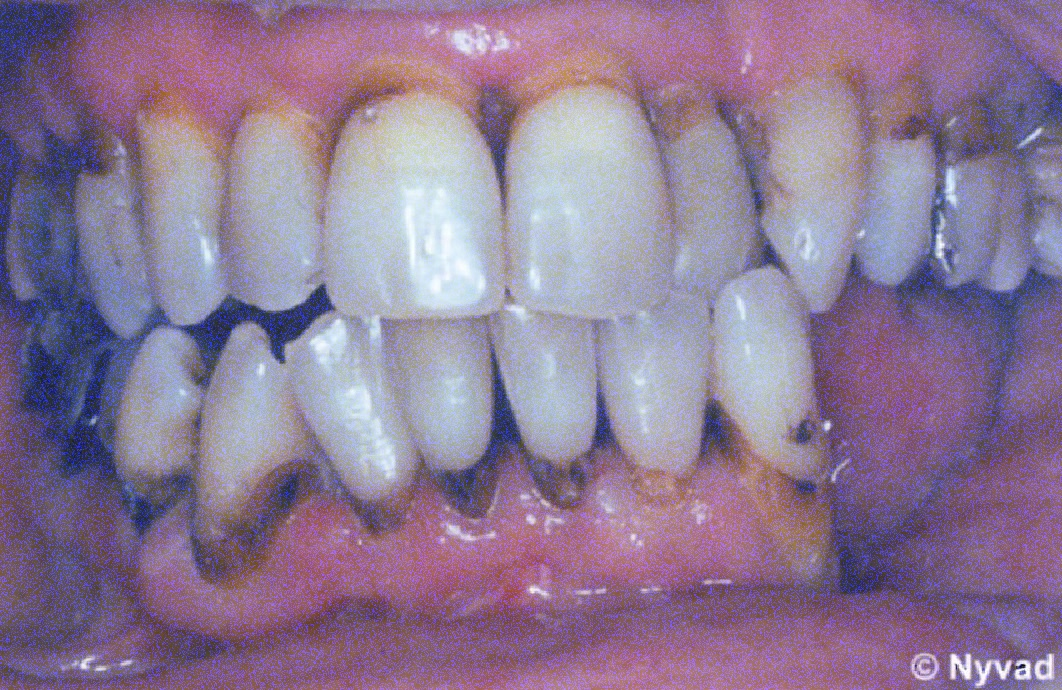karies: (200, 461, 325, 585), (51, 345, 140, 478), (726, 93, 800, 215), (431, 454, 508, 523), (325, 71, 410, 126), (114, 473, 194, 531), (524, 452, 598, 510), (346, 481, 420, 539), (73, 115, 134, 180), (14, 342, 69, 410), (629, 459, 694, 515), (772, 408, 834, 454), (778, 464, 844, 506), (946, 123, 1005, 166), (39, 127, 80, 181), (889, 105, 937, 143)
